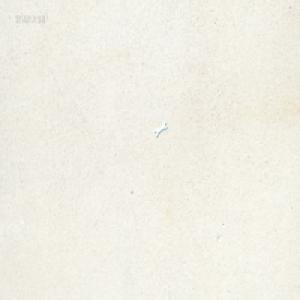Wrench: (154, 122, 168, 137)
